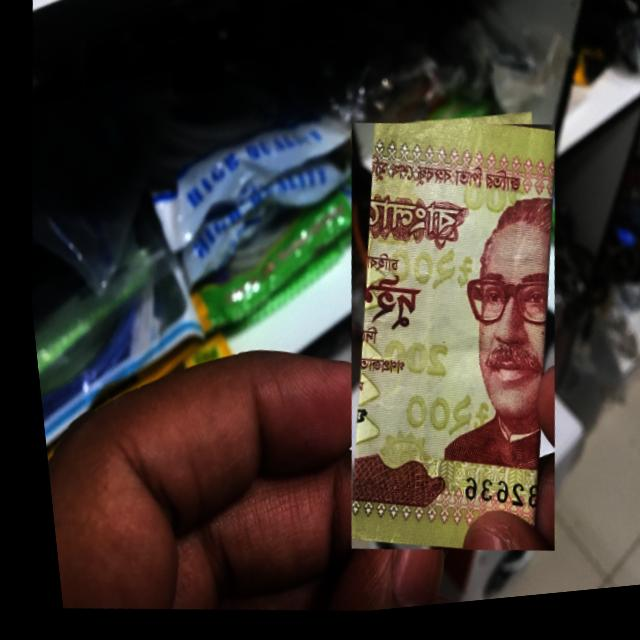Taka: (304, 114, 585, 575)
